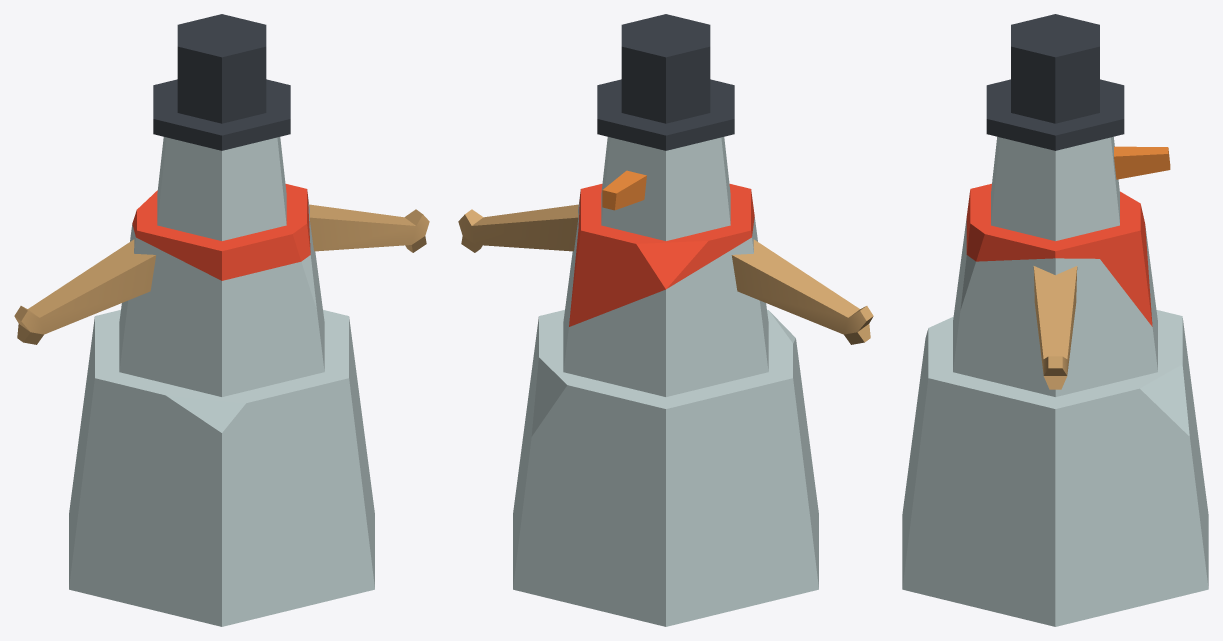
The model's file is snowmanFancy.fbx.
The picture shows the model from 3 angles, left to right: view 1: azimuth 30°, elevation 25°; view 2: azimuth 150°, elevation 25°; view 3: azimuth 270°, elevation 25°; orthographic projection.
Parts seen in each view (by area): view 1: snowmanFancy; view 2: snowmanFancy; view 3: snowmanFancy.
Boxes of the visible parts, <box> form: snowmanFancy: <box>14,14,429,626</box>; snowmanFancy: <box>458,14,873,626</box>; snowmanFancy: <box>902,14,1208,626</box>.
Bounding box in the file's own units: 6.93 × 8.38 × 4.5.
